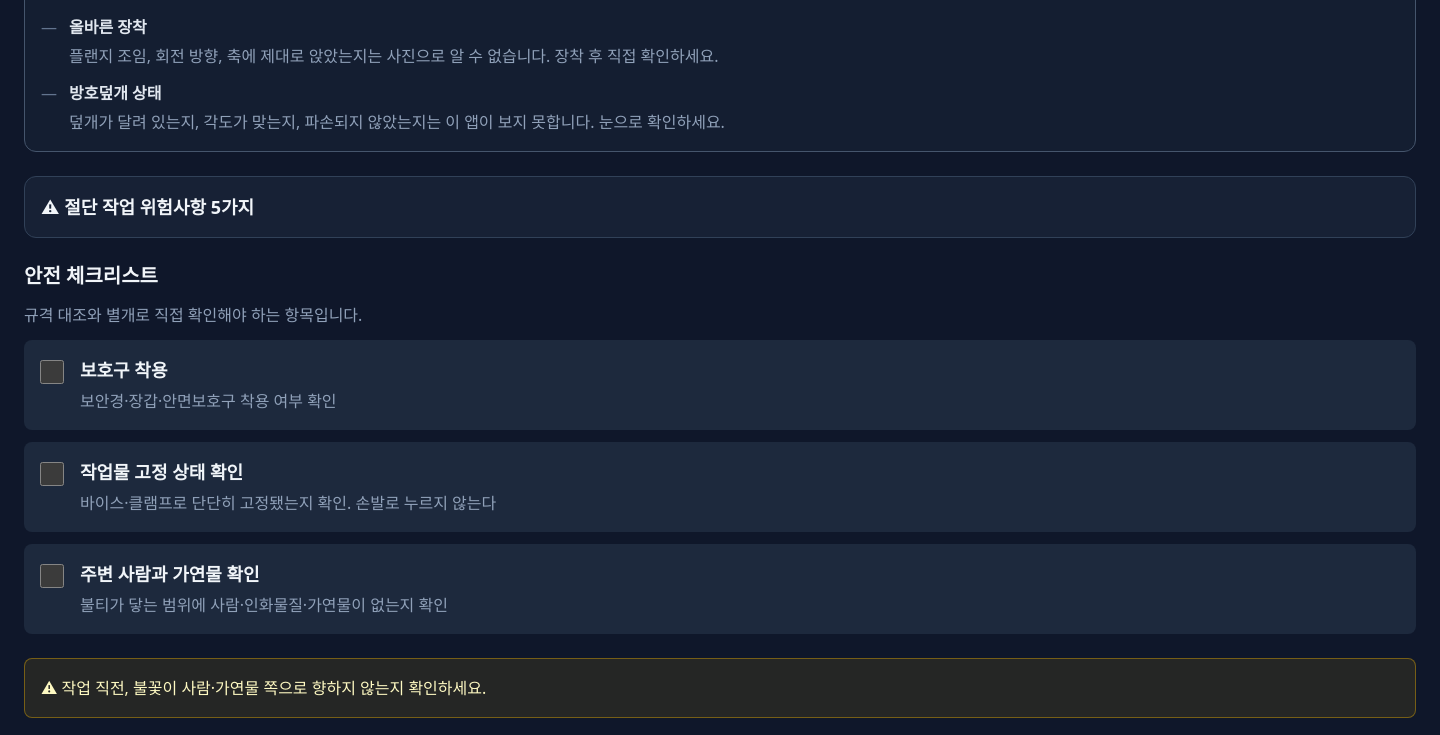
결과 화면 — 시험운전 절차 › 부적합·판정불가 기록은 시험운전 없이 그대로 저장할 수 있다
(page scrolled)
Step 1. Click the checkbox labelled "보호구 착용 보안경·장갑·안면보호구 착용 여부 확인" → (52, 372), box [40, 360, 64, 384]
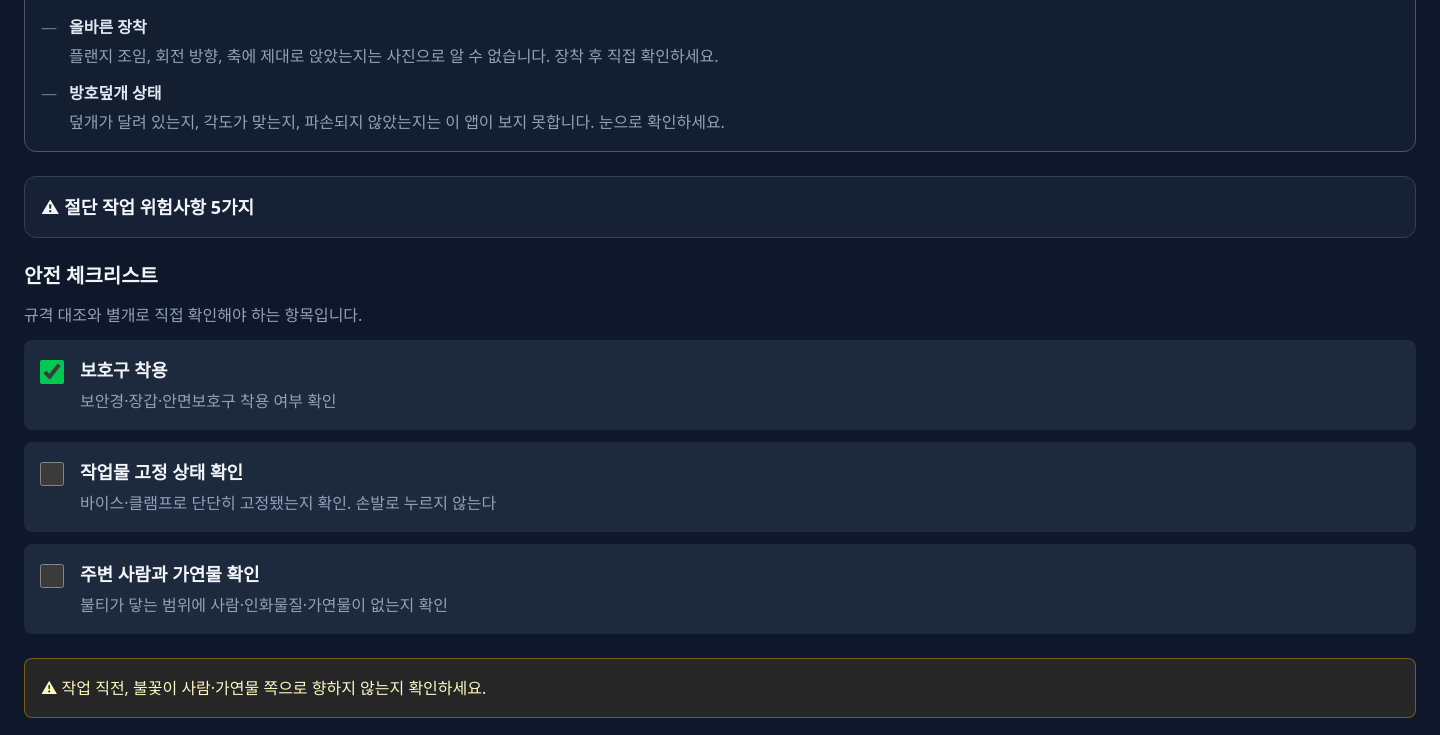
Step 2. Click the checkbox labelled "작업물 고정 상태 확인 바이스·클램프로 단단히 고정됐는지 확인. 손발로 누르지 않는다" → (52, 474), box [40, 462, 64, 486]
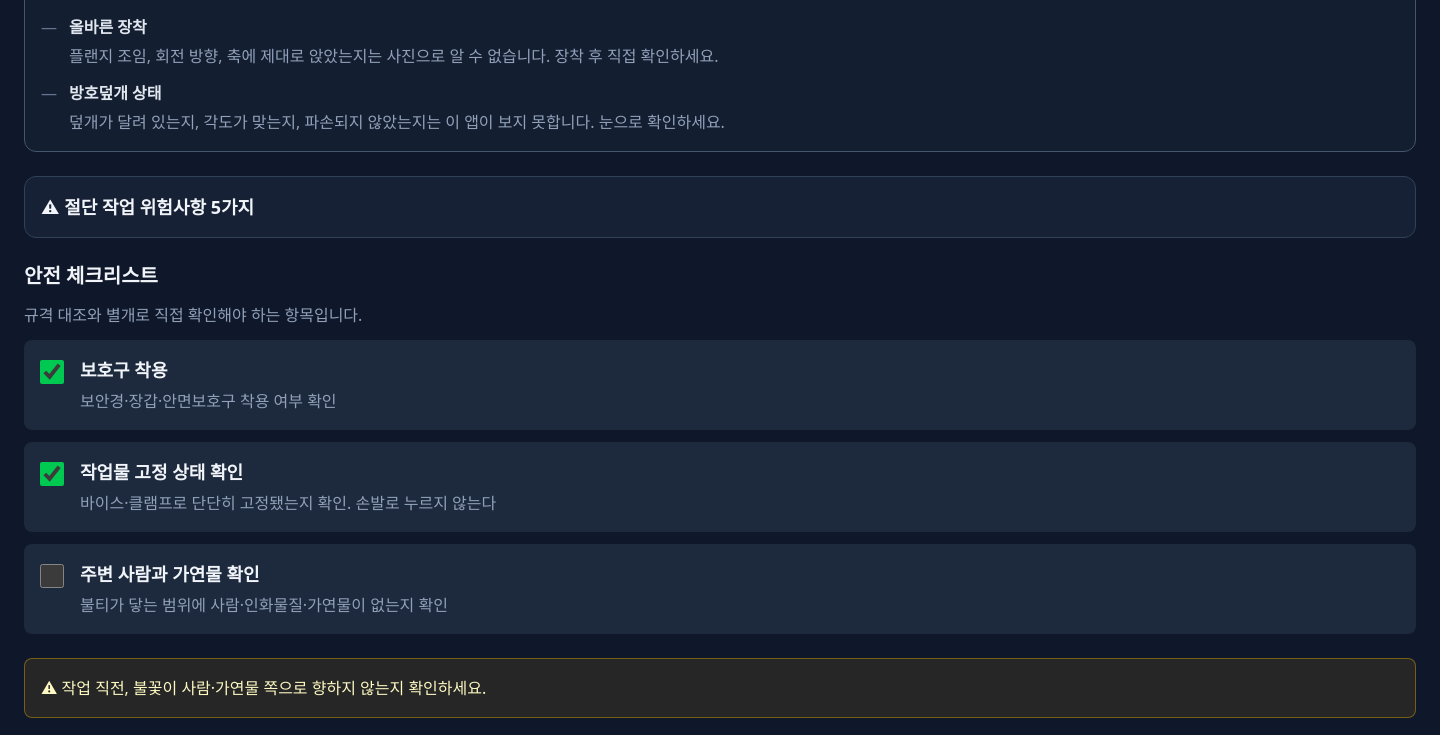
Step 3. Click the checkbox labelled "주변 사람과 가연물 확인 불티가 닿는 범위에 사람·인화물질·가연물이 없는지 확인" → (52, 576), box [40, 564, 64, 588]
(page scrolled)
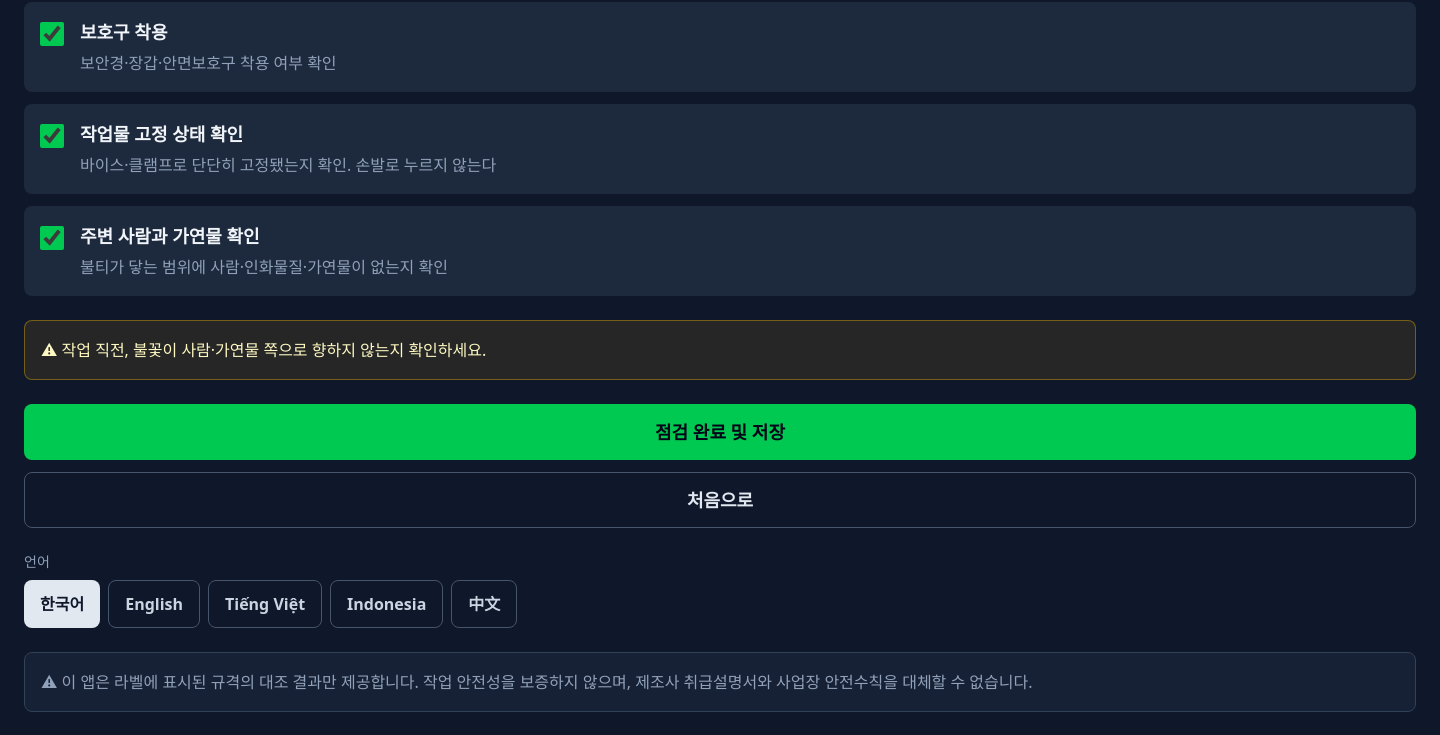
Expected: the button "점검 완료 및 저장" is enabled, [24, 404, 1416, 460]
